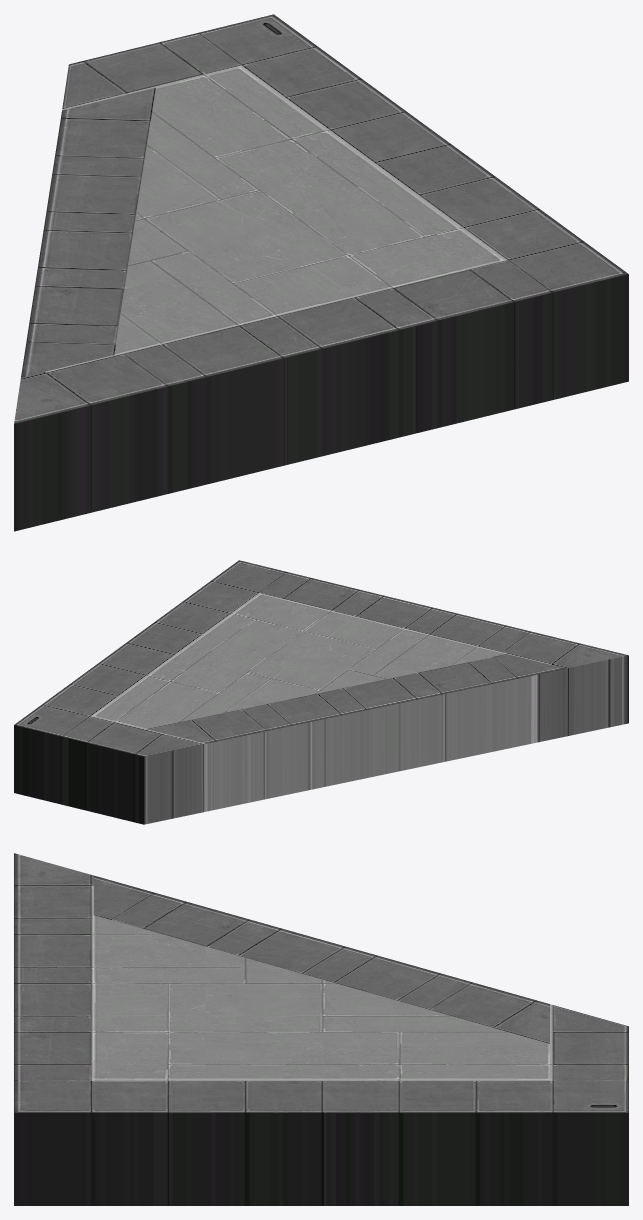
Rendered from Floor_3x3_bend.FBX.
The picture shows the model from 3 angles, top to bottom: view 1: azimuth 30°, elevation 25°; view 2: azimuth 150°, elevation 25°; view 3: azimuth 270°, elevation 25°; orthographic projection. The views are drawn at different scales.
Parts seen in each view (by area): view 1: Floor_3x3_bend; view 2: Floor_3x3_bend; view 3: Floor_3x3_bend.
Part boxes in pixels (x1,y1,x2,y2): Floor_3x3_bend: (14,14,628,531); Floor_3x3_bend: (14,560,628,824); Floor_3x3_bend: (14,853,628,1205).
Bounding box in the file's own units: 3 × 0.5 × 3.
